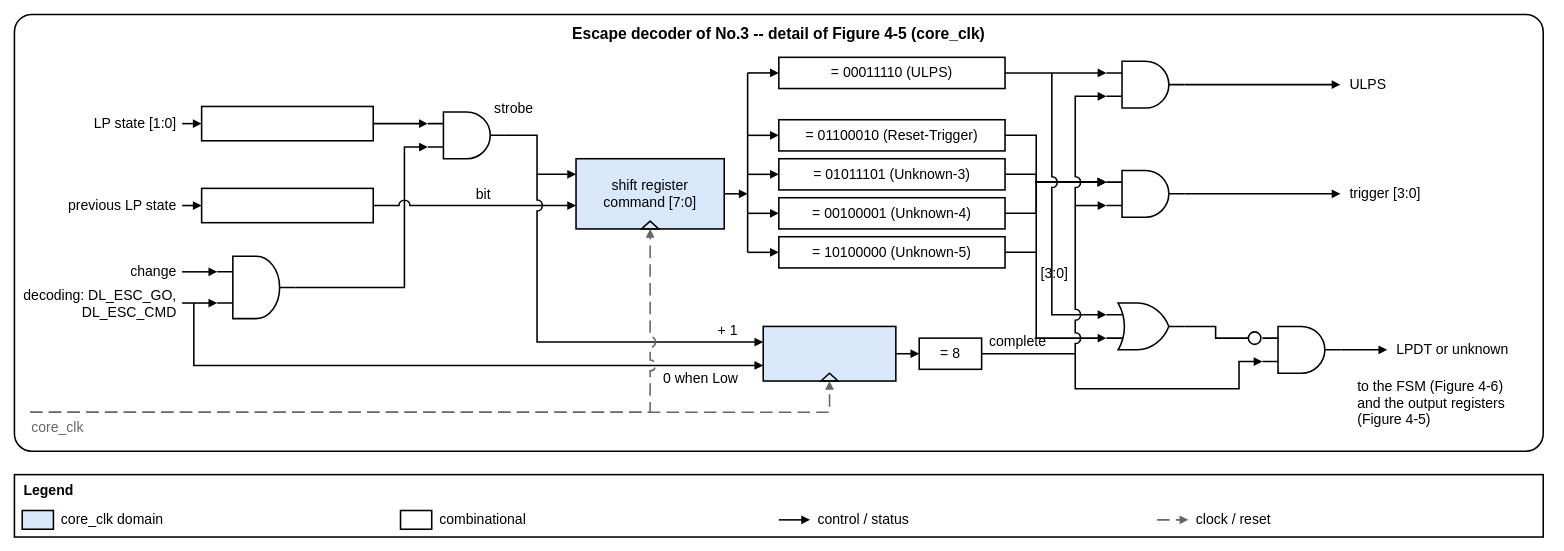
Image size: 1564x551. Some labels were removed from this diagram. Each missing label, with the box of its shape:
= LP-00 (Space): (200, 105, 374, 141)
= LP-10 (Mark-1): (200, 187, 374, 223)
bit counter: (762, 325, 896, 381)
